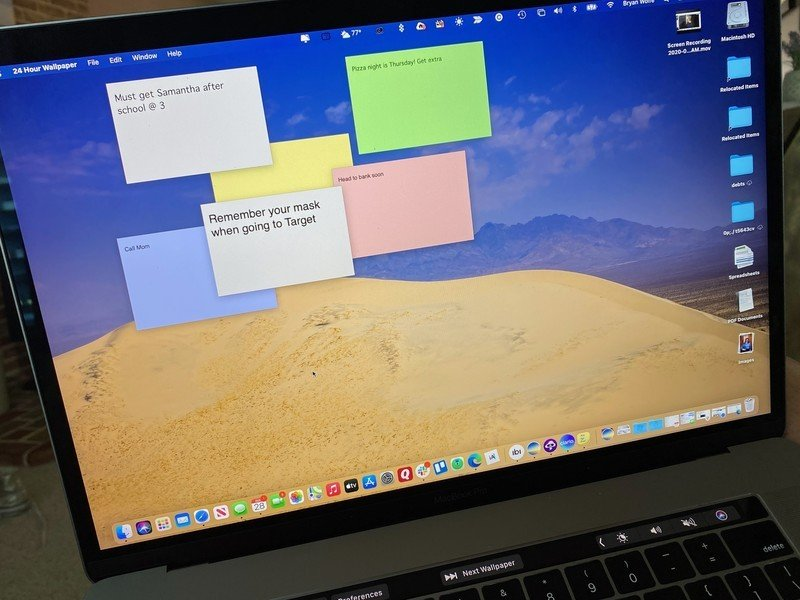Note: (106, 66, 276, 184), (200, 188, 360, 295), (116, 228, 279, 329), (345, 43, 494, 151), (330, 154, 476, 260), (209, 136, 357, 224)
